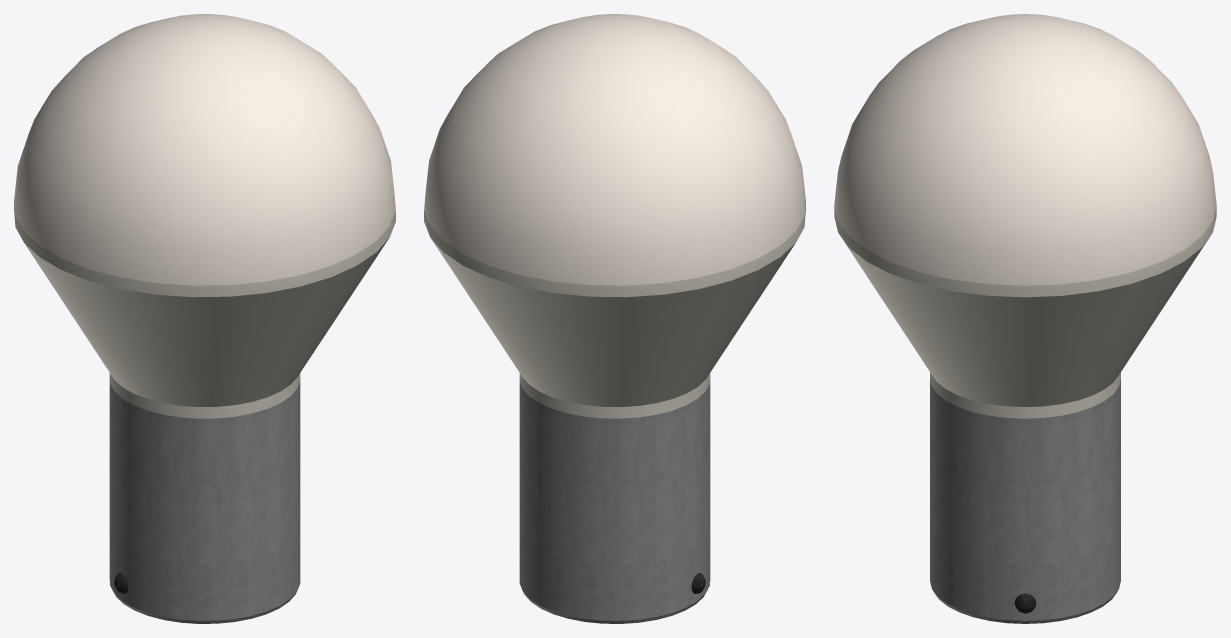
Rendered from Light.fbx.
3 renders of one model, left to right at view 1: azimuth 30°, elevation 25°; view 2: azimuth 150°, elevation 25°; view 3: azimuth 270°, elevation 25°, orthographic.
Visible parts, largest first — view 1: Body; view 2: Body; view 3: Body.
Part boxes in pixels (x1=…): Body: x1=14, y1=14, x2=395, y2=623; Body: x1=424, y1=14, x2=805, y2=623; Body: x1=834, y1=14, x2=1216, y2=623.
Size of the model in its own units: 3 by 3 by 5.
Materials: 1 (1 with a texture image).
